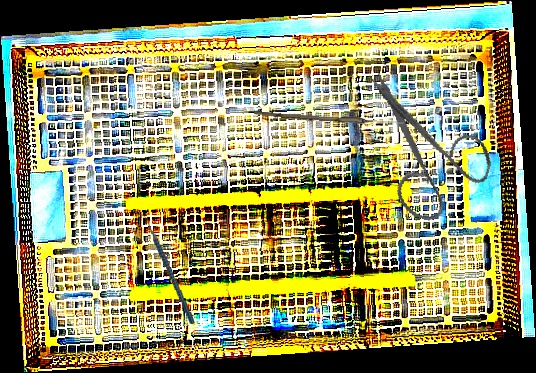Chopper: (134, 206, 196, 329)
Iris Scissors: (332, 67, 508, 234)
Surgical Spoon: (253, 111, 405, 126)
